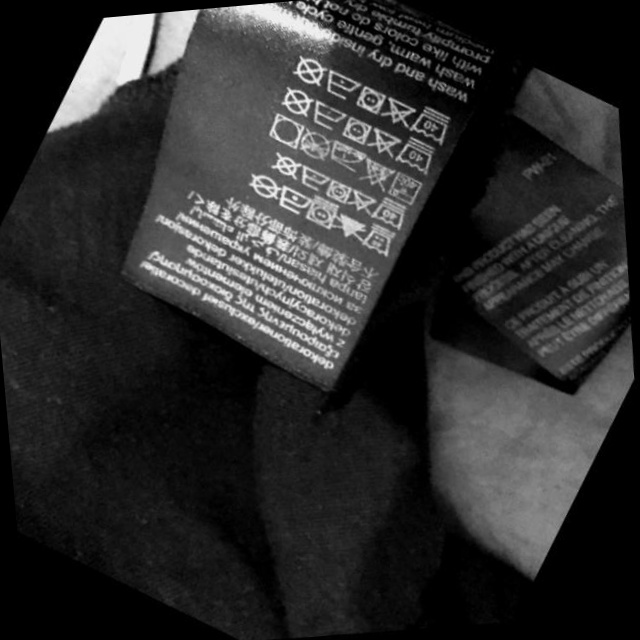40C: (409, 99, 451, 147), (393, 133, 433, 178), (360, 221, 400, 263), (370, 197, 410, 229), (387, 170, 422, 205)
DN_bleach: (367, 123, 400, 162), (361, 155, 395, 192), (332, 210, 365, 245), (383, 94, 416, 128), (347, 188, 376, 217)
DN_dry_clean: (290, 53, 328, 91), (277, 86, 315, 120), (243, 170, 277, 204), (267, 150, 301, 183)
iron_low: (327, 135, 368, 173), (321, 65, 359, 105), (307, 97, 348, 133), (274, 184, 313, 216), (297, 162, 331, 191)
tumble_dry_medium: (301, 194, 340, 233), (350, 84, 388, 117), (338, 116, 375, 147), (323, 179, 352, 205)
tumble_dry_normal: (263, 111, 304, 153)
